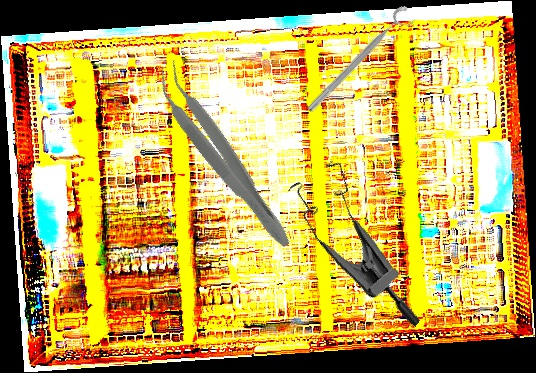Fixation Ring: (303, 2, 420, 121)
Speculum: (265, 147, 468, 330)
Tissue Forceps: (145, 59, 305, 254)
